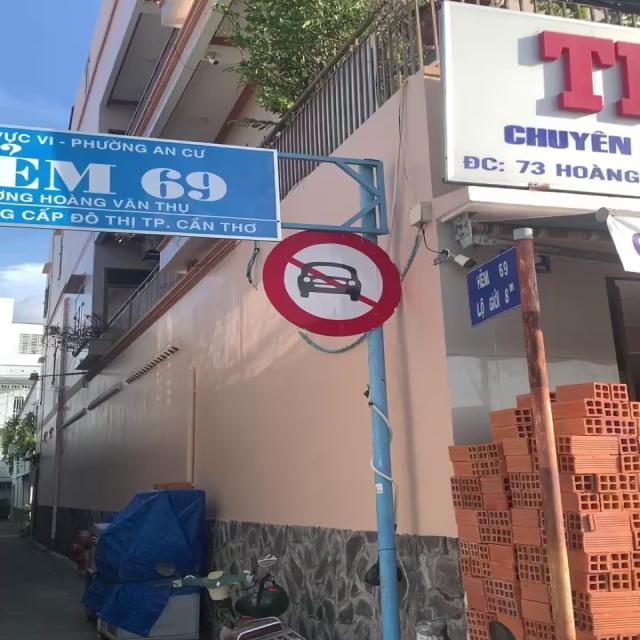Cam_O_To: (263, 224, 407, 336)
